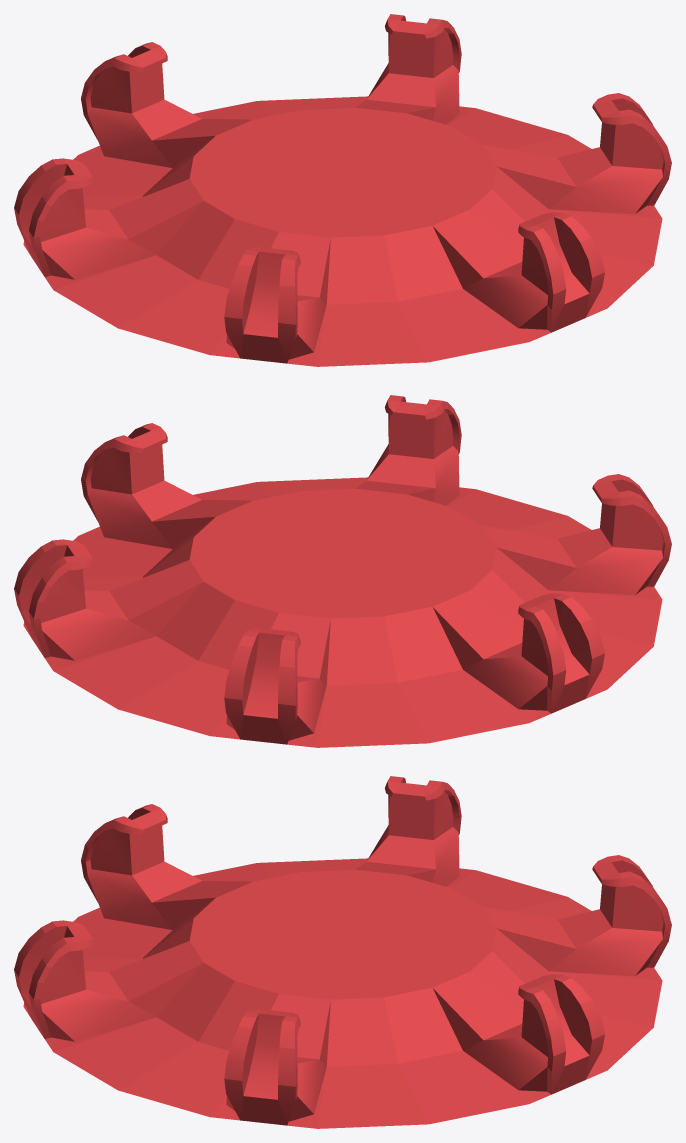
Rendered from gravlift.fbx.
3 views of the same model, one above another, from view 1: azimuth 30°, elevation 25°; view 2: azimuth 150°, elevation 25°; view 3: azimuth 270°, elevation 25° (orthographic).
Parts seen in each view (by area): view 1: gravlift; view 2: gravlift; view 3: gravlift.
Part boxes in pixels (x1,y1,x2,y2): gravlift: (14,14,671,366); gravlift: (14,395,671,747); gravlift: (14,776,671,1128).
Size of the model in its own units: 106195 by 16800 by 105915.
